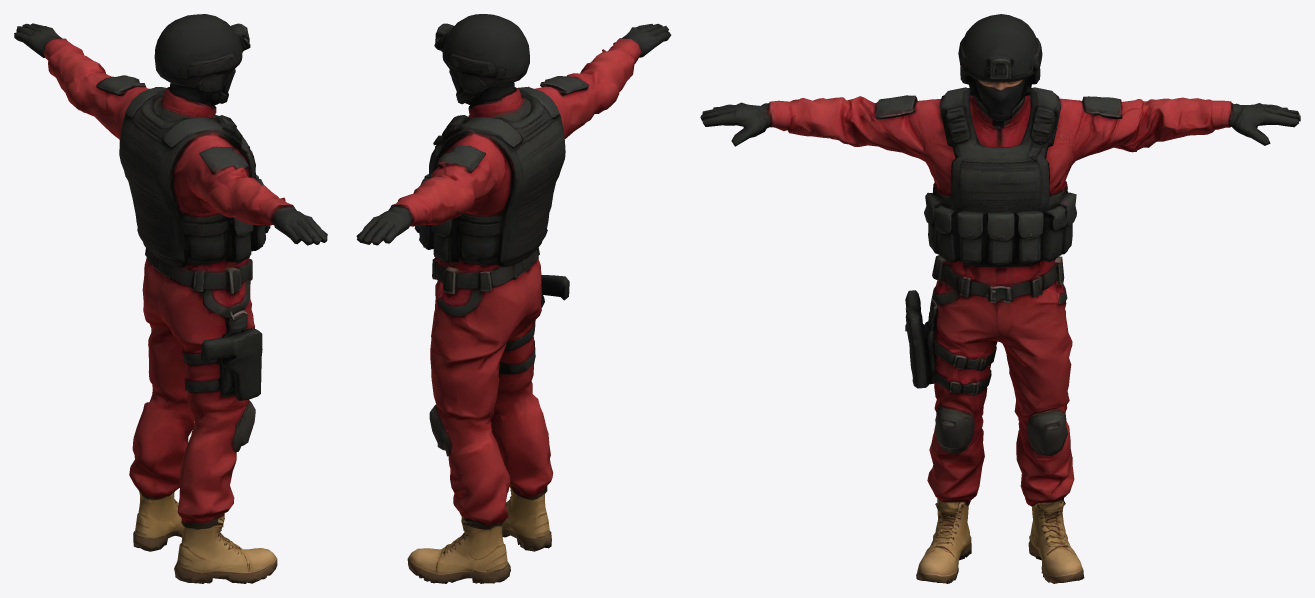
Rendered from soldier.glb.
The picture shows the model from 3 angles, left to right: view 1: azimuth 30°, elevation 25°; view 2: azimuth 150°, elevation 25°; view 3: azimuth 270°, elevation 25°; orthographic projection.
Visible parts, largest first — view 1: tripo_node_e31e3e0e-da79-4f72-80e4-e15e5527de11; view 2: tripo_node_e31e3e0e-da79-4f72-80e4-e15e5527de11; view 3: tripo_node_e31e3e0e-da79-4f72-80e4-e15e5527de11.
Part boxes in pixels (bbox=[...]): tripo_node_e31e3e0e-da79-4f72-80e4-e15e5527de11: bbox=[14, 14, 327, 583]; tripo_node_e31e3e0e-da79-4f72-80e4-e15e5527de11: bbox=[356, 14, 671, 583]; tripo_node_e31e3e0e-da79-4f72-80e4-e15e5527de11: bbox=[700, 14, 1300, 583].
Bounding box in the file's own units: 0.2326 × 1 × 0.9895.
1 material, 1 textured.
